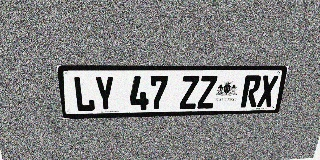4: (130, 76, 149, 110)
7: (149, 76, 168, 110)
L: (73, 76, 96, 112)
R: (240, 75, 262, 107)
X: (257, 75, 279, 107)
Y: (94, 76, 115, 111)
Z: (197, 75, 218, 109), (179, 76, 199, 109)
